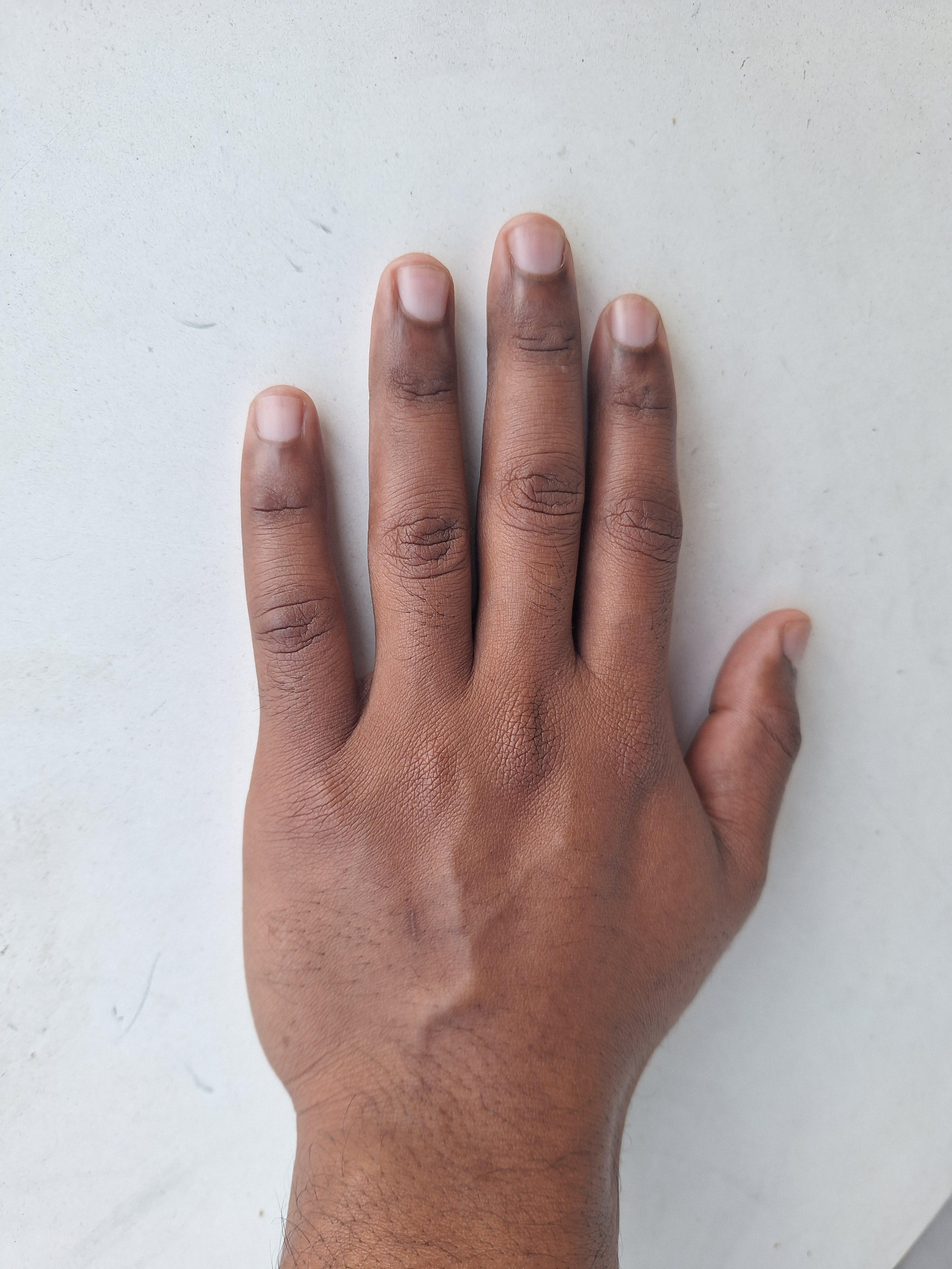Fingernail: (507, 223, 564, 274), (398, 268, 450, 322), (609, 298, 659, 349), (256, 396, 305, 441), (782, 622, 811, 671)
